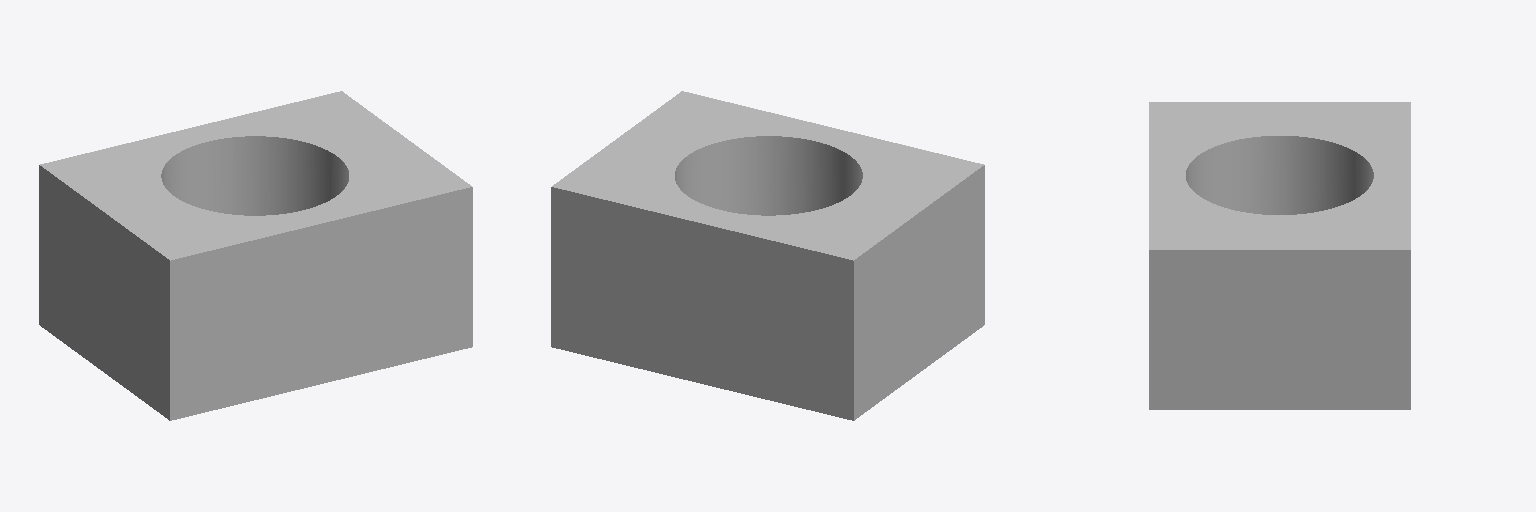
3 views of the same model, side by side, from view 1: azimuth 30°, elevation 25°; view 2: azimuth 150°, elevation 25°; view 3: azimuth 270°, elevation 25° (orthographic).
Parts seen in each view (by area): view 1: Cut_Extrude1; view 2: Cut_Extrude1; view 3: Cut_Extrude1.
Part boxes in pixels (x1,y1,x2,y2): Cut_Extrude1: (39, 91, 472, 420); Cut_Extrude1: (551, 91, 984, 420); Cut_Extrude1: (1149, 102, 1410, 409).
Size of the model in its own units: 4 by 2.03 by 3.